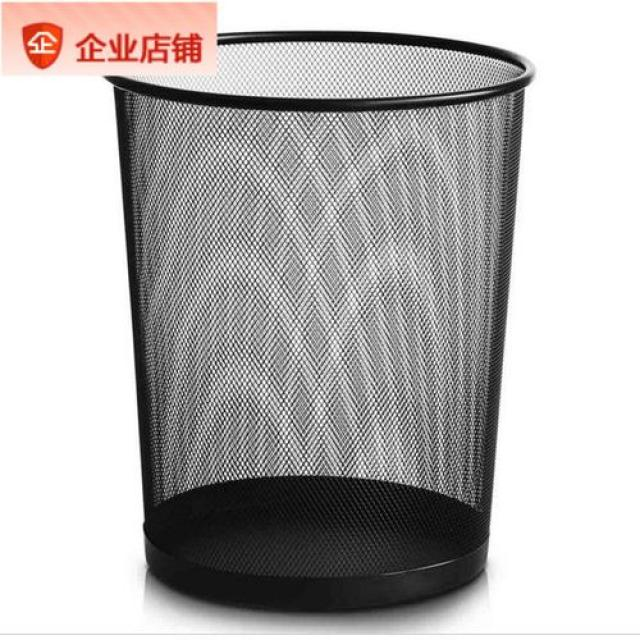dustbin: (96, 29, 540, 611)
